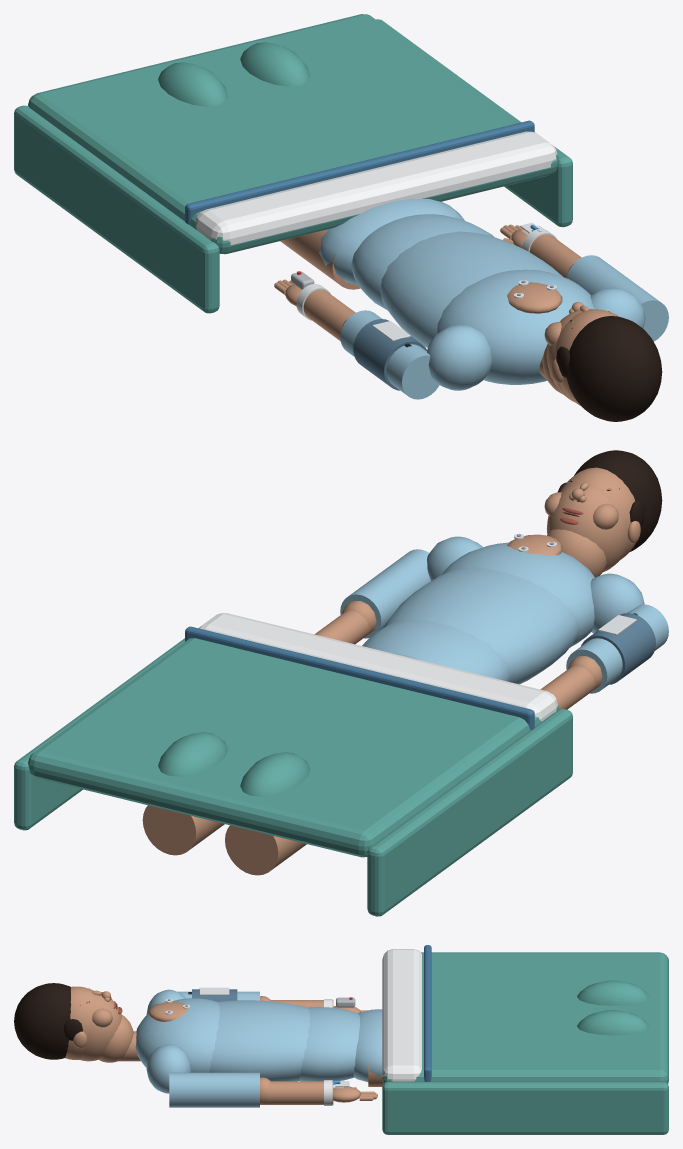
Rendered from Patient.glb.
3 renders of one model, top to bottom at view 1: azimuth 30°, elevation 25°; view 2: azimuth 150°, elevation 25°; view 3: azimuth 270°, elevation 25°, orthographic. The views are drawn at different scales.
Visible parts, largest first — view 1: Blanket, BlanketDrape, BlanketFold, Torso, Chest, Hair, Abdomen, BlanketStripe, Pelvis, Shoulder, BlanketDrape.001, Sleeve (+10 smaller); view 2: Blanket, BlanketDrape, Torso, BlanketFold, Chest, Abdomen, BlanketStripe, BlanketDrape.001, Sleeve.001, Face, Hair, Leg.001 (+12 smaller); view 3: Blanket, BlanketDrape.001, Torso, BlanketFold, Chest, Abdomen, Hair, Sleeve.001, Pelvis, Shoulder.001, FootUnderBlanket, FootUnderBlanket.001 (+13 smaller).
Part boxes in pixels (bbox=[...]): Blanket: bbox=[28, 14, 558, 254]; BlanketDrape: bbox=[14, 105, 219, 313]; BlanketFold: bbox=[196, 131, 557, 253]; Torso: bbox=[380, 231, 562, 347]; Chest: bbox=[436, 269, 594, 384]; Hair: bbox=[567, 316, 662, 421]; Abdomen: bbox=[351, 214, 493, 309]; BlanketStripe: bbox=[185, 120, 534, 224]; Pelvis: bbox=[319, 198, 464, 284]; Shoulder: bbox=[427, 325, 491, 390]; BlanketDrape.001: bbox=[376, 19, 572, 227]; Sleeve: bbox=[340, 310, 439, 399]; Blanket: bbox=[28, 638, 558, 857]; BlanketDrape: bbox=[367, 708, 572, 916]; Torso: bbox=[383, 567, 579, 684]; BlanketFold: bbox=[199, 613, 557, 721]; Chest: bbox=[442, 542, 594, 647]; Abdomen: bbox=[362, 619, 511, 681]; BlanketStripe: bbox=[185, 626, 534, 730]; BlanketDrape.001: bbox=[14, 638, 184, 830]; Sleeve.001: bbox=[340, 549, 430, 638]; Face: bbox=[547, 484, 627, 571]; Hair: bbox=[574, 450, 662, 551]; Leg.001: bbox=[142, 805, 224, 855]; Blanket: bbox=[382, 952, 668, 1083]; BlanketDrape.001: bbox=[382, 1082, 668, 1134]; Torso: bbox=[209, 1000, 309, 1081]; BlanketFold: bbox=[382, 949, 421, 1081]; Chest: bbox=[135, 998, 219, 1072]; Abdomen: bbox=[299, 1007, 359, 1081]; Hair: bbox=[14, 983, 71, 1059]; Sleeve.001: bbox=[169, 1072, 259, 1107]; Pelvis: bbox=[353, 1009, 382, 1081]; Shoulder.001: bbox=[146, 1044, 191, 1093]; FootUnderBlanket: bbox=[577, 980, 648, 1005]; FootUnderBlanket.001: bbox=[577, 1010, 648, 1035].
Size of the model in its own units: 0.9 by 0.286 by 1.87.
